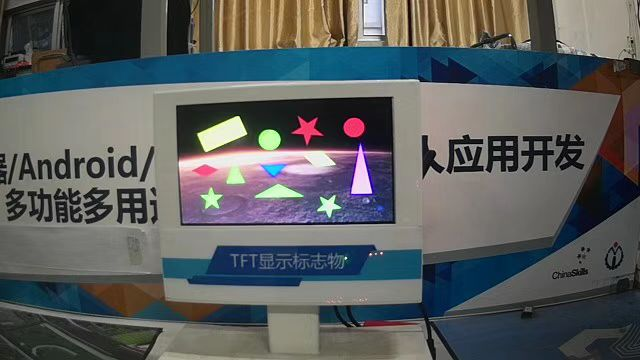graph: (174, 97, 401, 228)
